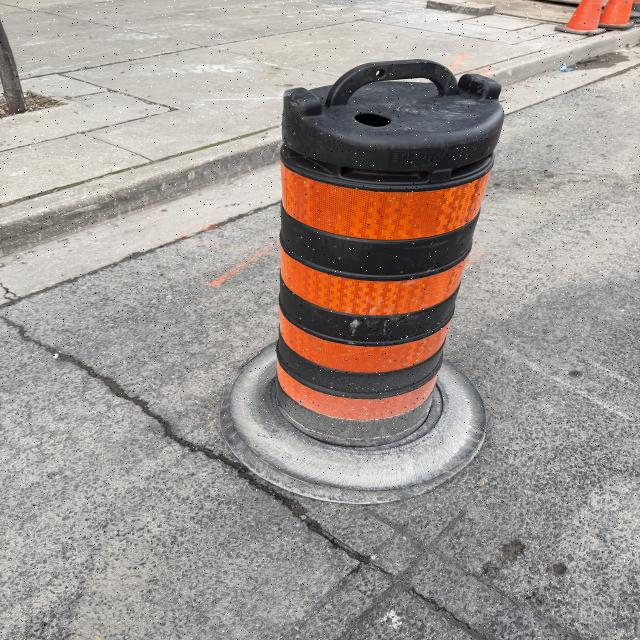Teraffic Barrel: (223, 60, 503, 501), (554, 0, 606, 36), (599, 0, 635, 30)
